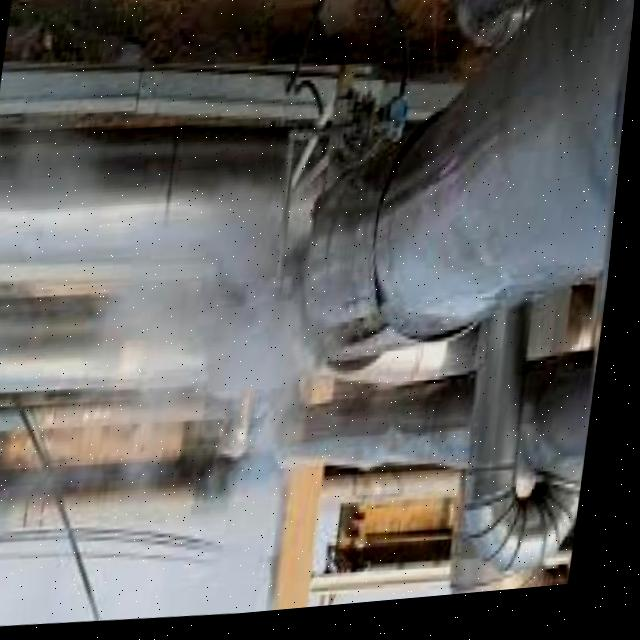corrosion: (106, 184, 381, 435)
